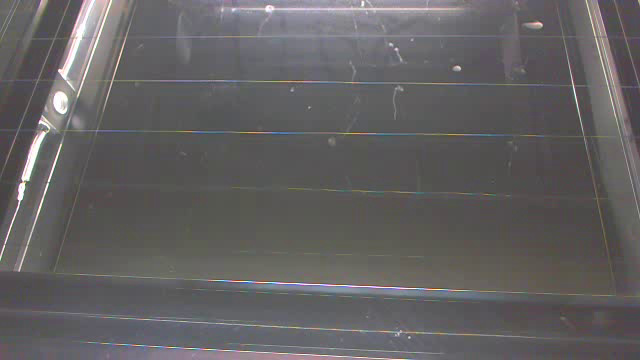alpha: (521, 18, 548, 33), (450, 63, 465, 74), (264, 3, 275, 14)
